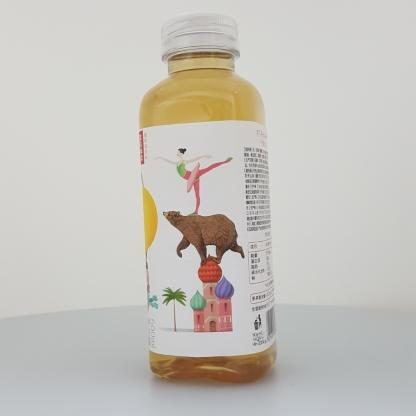------------: (139, 14, 277, 384)
